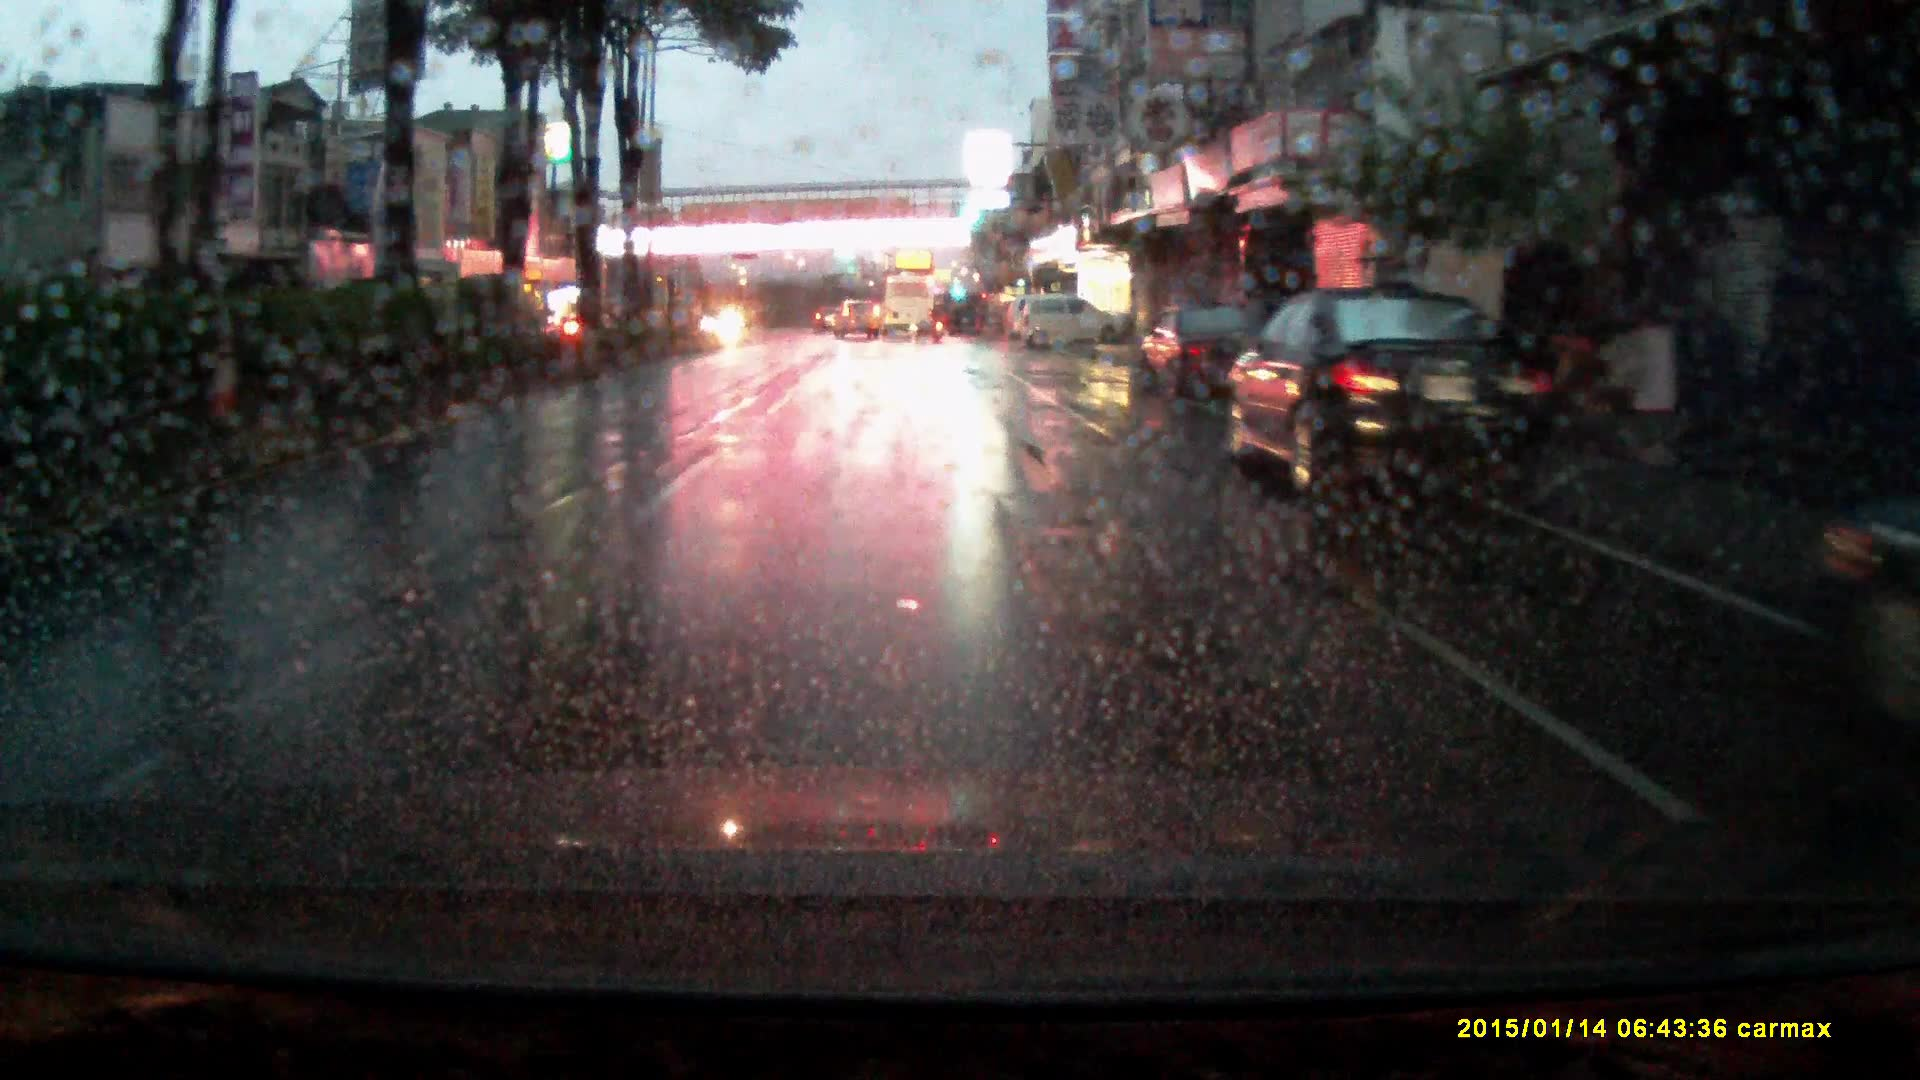vehicle: (1221, 284, 1594, 505), (1135, 305, 1276, 393), (1018, 295, 1130, 351), (876, 277, 934, 335), (833, 294, 882, 336), (814, 301, 841, 328)
